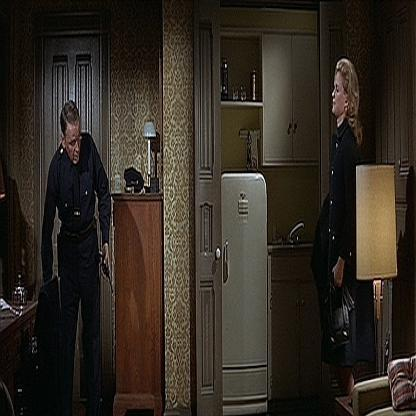gun: (96, 233, 121, 306)
